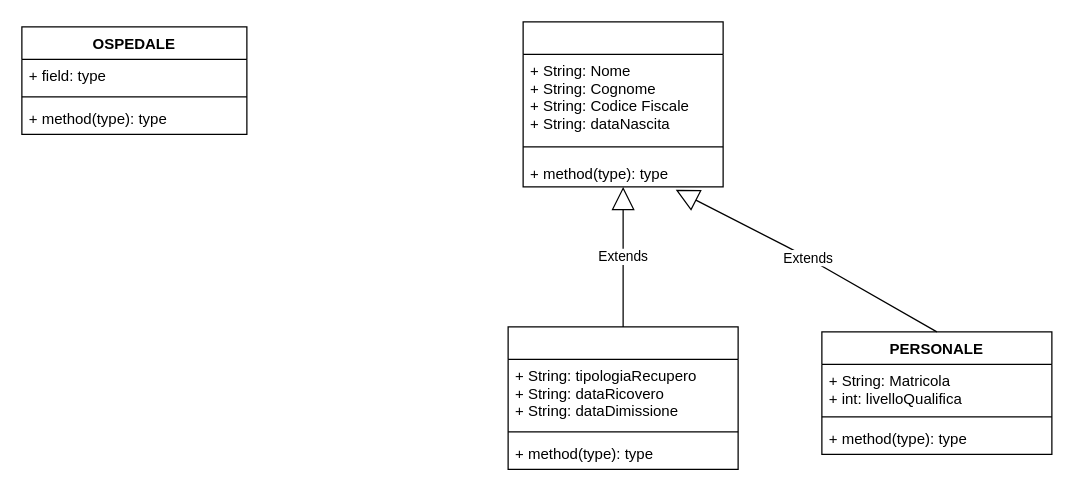
Image size: 1074x495. Some labels were removed from this diagram. Here are the shapes that lost their labels. From the top down, the box of each, then its label:
(522, 21, 723, 187): PERSONA
(507, 326, 738, 469): PAZIENTE
